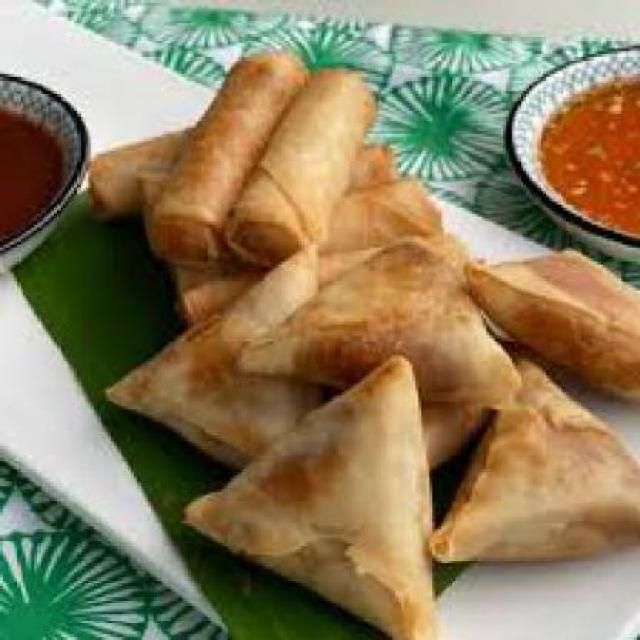samosa: (105, 253, 638, 629)
spring rolls: (88, 40, 418, 271)
